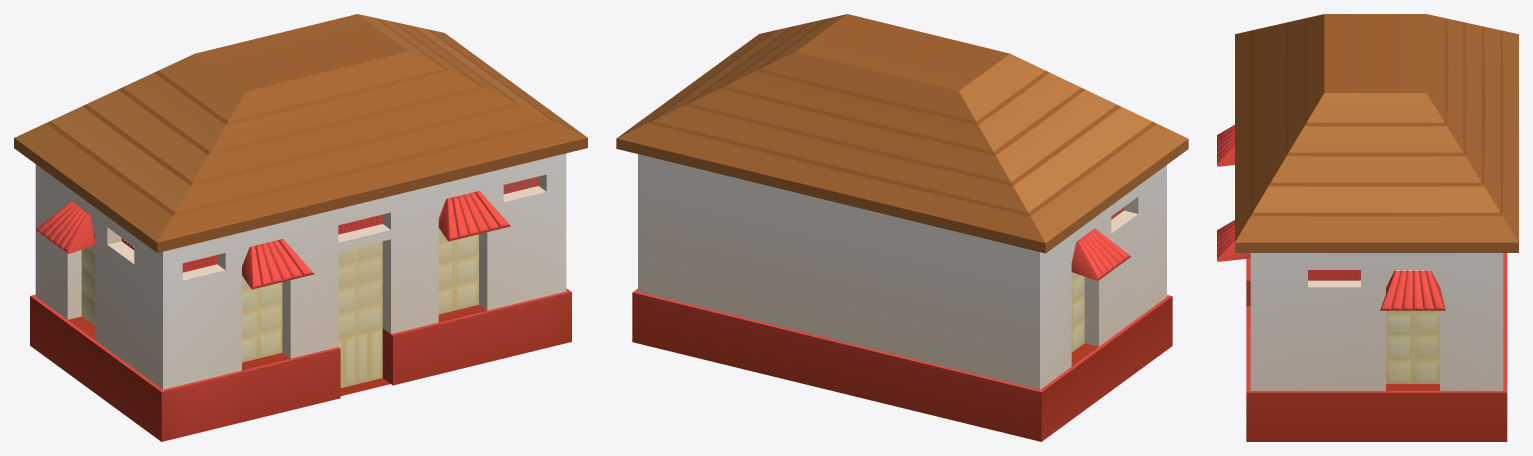
Rendered from secondHouse.FBX.
The picture shows the model from 3 angles, left to right: view 1: azimuth 30°, elevation 25°; view 2: azimuth 150°, elevation 25°; view 3: azimuth 270°, elevation 25°; orthographic projection.
Parts seen in each view (by area): view 1: Box004, door, window03, window02, window01; view 2: Box004, window01; view 3: Box004, window04.
Boxes of the visible parts, <box> form: Box004: <box>14,14,587,441</box>; door: <box>338,241,382,387</box>; window03: <box>438,228,478,314</box>; window02: <box>242,276,282,362</box>; window01: <box>81,245,94,325</box>; Box004: <box>616,14,1188,441</box>; window01: <box>1071,272,1084,352</box>; Box004: <box>1217,14,1518,441</box>; window04: <box>1386,310,1439,383</box>.
Size of the model in its own units: 269 by 162 by 154.
